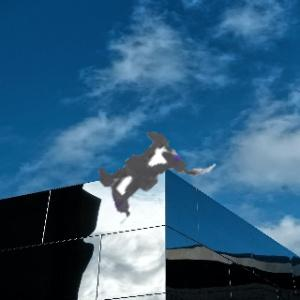drone: (32, 69, 243, 280)
